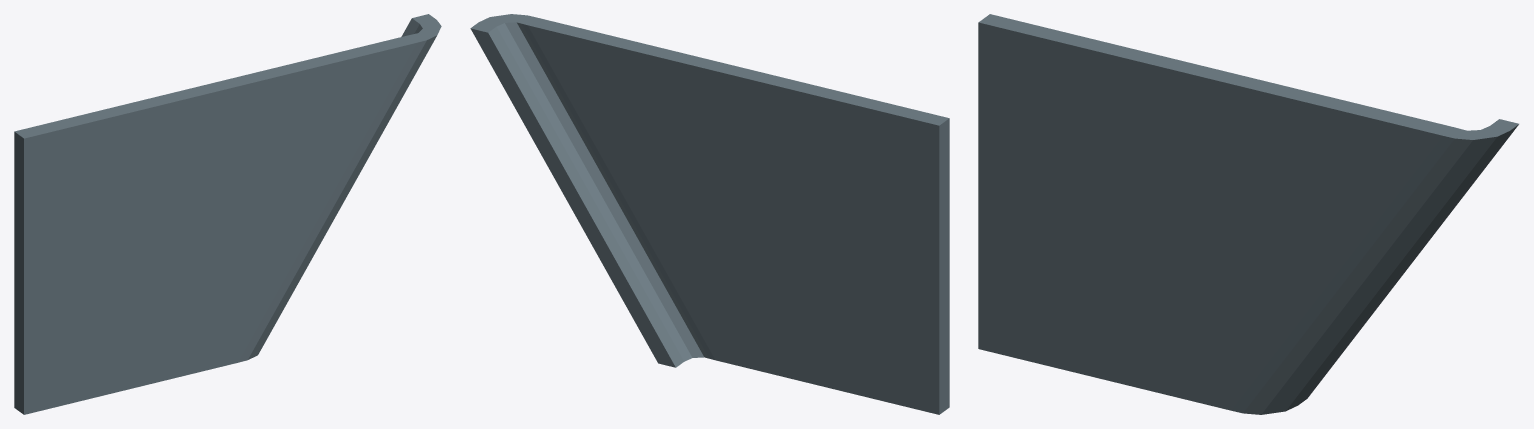
File: Wall trianglelike left.fbx
3 views of the same model, side by side, from view 1: azimuth 30°, elevation 25°; view 2: azimuth 150°, elevation 25°; view 3: azimuth 330°, elevation 25° (orthographic). The views are drawn at different scales.
Visible parts, largest first — view 1: pCube312; view 2: pCube312; view 3: pCube312.
Boxes of the visible parts, x1,y1,x2,y2 form: pCube312: (14, 14, 441, 414); pCube312: (470, 14, 949, 414); pCube312: (978, 14, 1518, 414).
Bounding box in the file's own units: 227 × 139 × 24.18.
